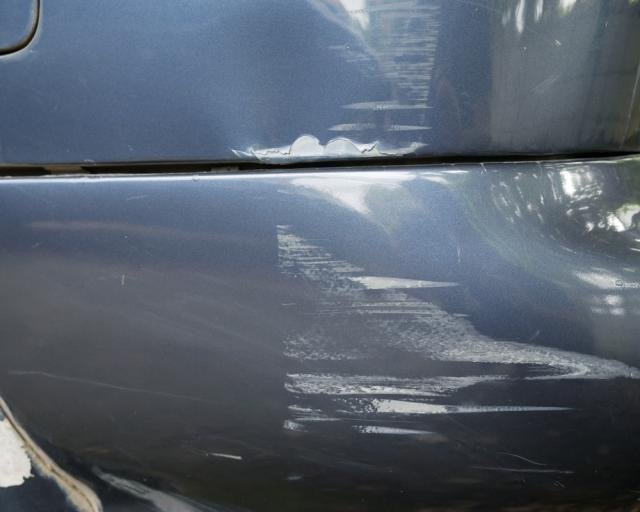scratch: (275, 225, 640, 442), (324, 0, 446, 154)
